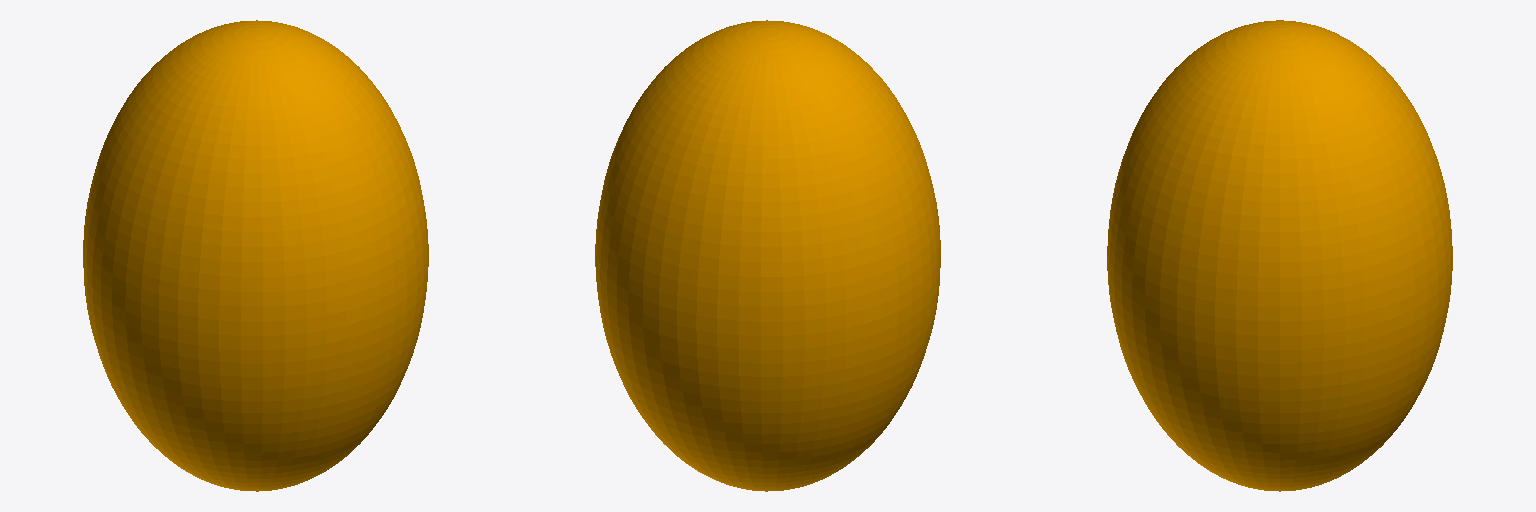
The robot description file, URDF, robot "ellipsoid":
<?xml version="1.0"?>
<robot name="ellipsoid">
  <link name="ellipsoid">
    <!-- 可视化 -->
    <visual>
      <origin xyz="0 0 0" rpy="0 0 0"/>
      <geometry>
        <mesh filename="ellipsoid_balloon.stl" scale=".1 .1 .1"/>
      </geometry>
    </visual>
    <!-- 碰撞 -->
    <collision>
      <origin xyz="0 0 0" rpy="0 0 0"/>
      <geometry>
        <mesh filename="ellipsoid_balloon.stl" scale=".1 .1 .1"/>
      </geometry>
    </collision>
    <!-- 惯性 -->
    <inertial>
      <mass value="0"/>
      <inertia ixx="0.03" ixy="0.0" ixz="0.0" iyy="0.02" iyz="0.0" izz="0.01"/>
    </inertial>
  </link>
</robot>

--- What the picture shows (computed from the rendered views, not written in the file) ---
3 views of the same robot in one strip: view 1: azimuth 30°, elevation 25°; view 2: azimuth 150°, elevation 25°; view 3: azimuth 270°, elevation 25° (orthographic).
Robot: ellipsoid — 1 links, 0 joints (none); root link ellipsoid; default pose: every joint at zero.
Visible links, largest first — view 1: ellipsoid; view 2: ellipsoid; view 3: ellipsoid.
Boxes of the visible links, x1=… form: ellipsoid: x1=83, y1=20, x2=428, y2=491; ellipsoid: x1=595, y1=20, x2=940, y2=491; ellipsoid: x1=1107, y1=20, x2=1452, y2=491.
Size in the robot's own frame: 0.1398 by 0.1399 by 0.2 metres.
Meshes: 1 distinct files referenced, 1 mesh visuals loaded (1 binary STL).
